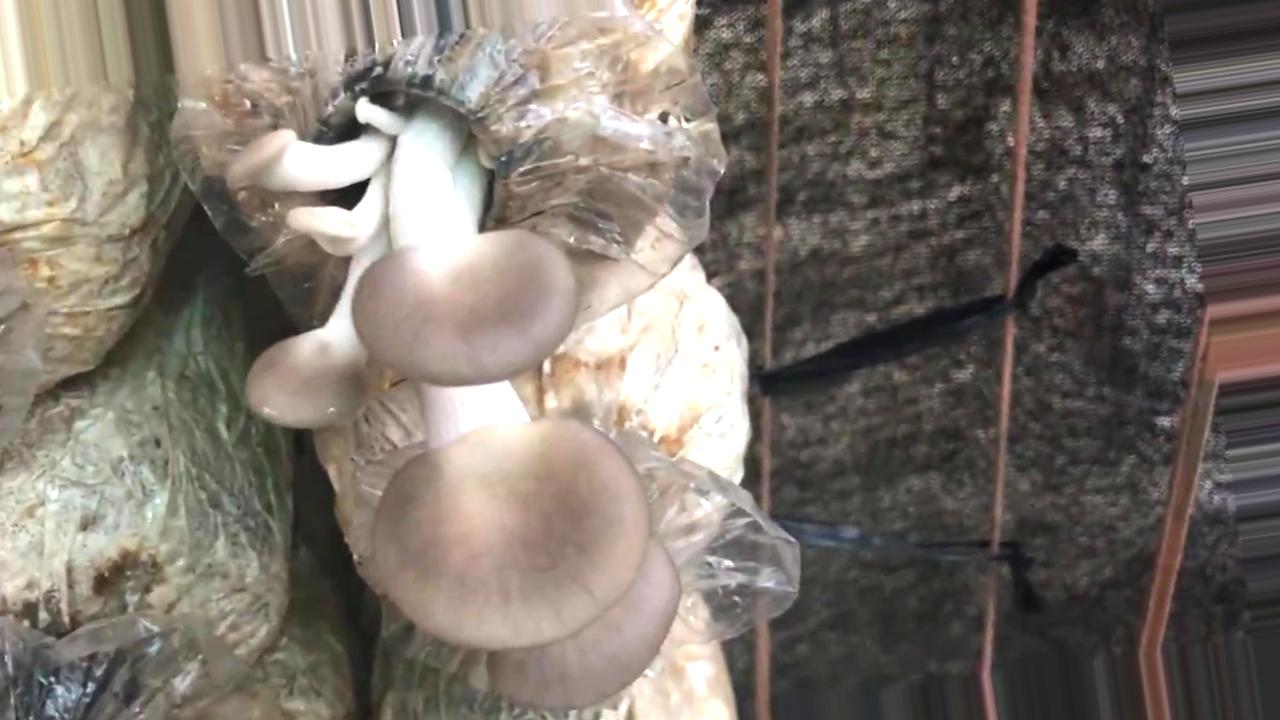nam: (224, 49, 648, 649), (484, 538, 686, 709)
